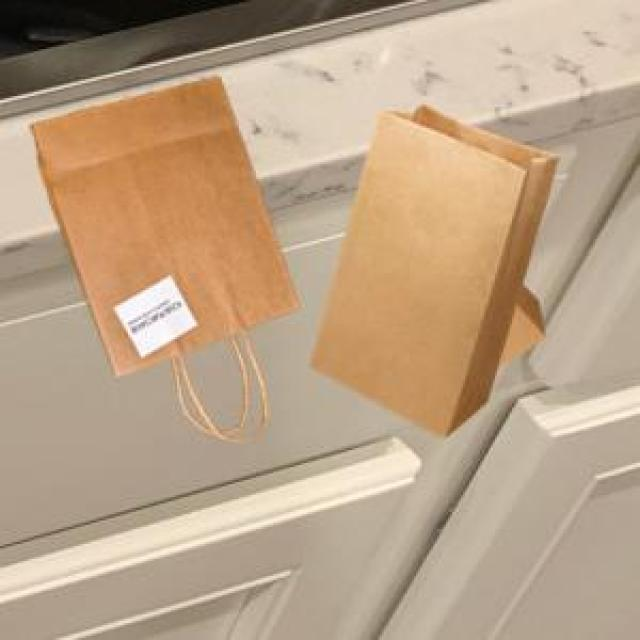paper: (29, 73, 294, 433), (307, 100, 555, 433), (495, 280, 540, 361)
